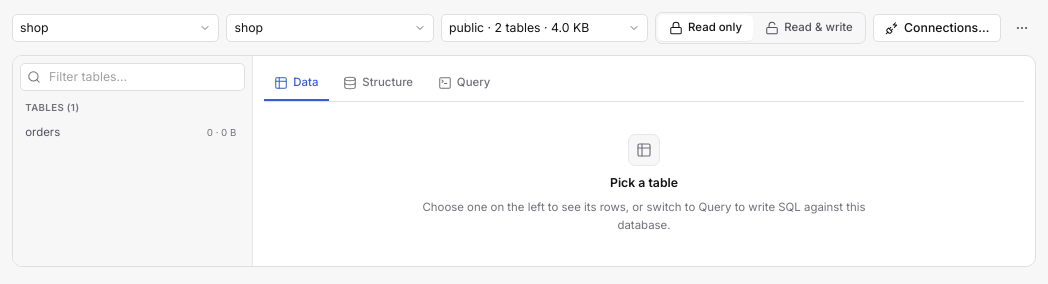
Test case: BrowserPanel › PostgreSQL schemas › shows qualified names under All schemas
expect the text "orders" is shown: met, box [25,123,60,142]
What coordinates should you click on to do the following:
click the button with aria-label "Schema"
I would click on:
 (545, 28)
Its box is [441,14,648,42].
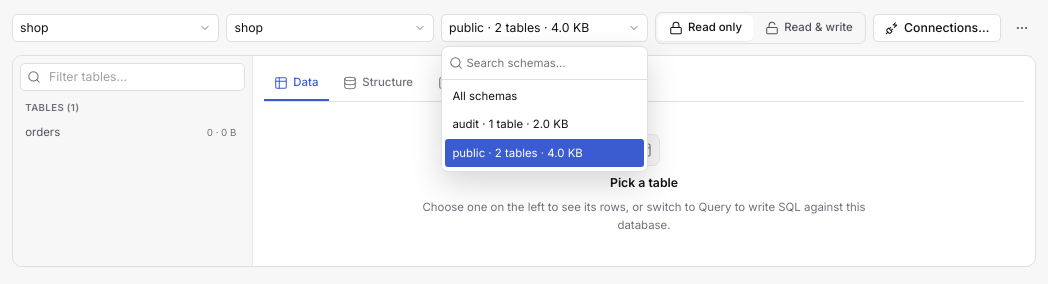
What coordinates should you click on to do the following:
click the option "All schemas"
I would click on:
 (485, 96)
Its box is [452,89,517,103].
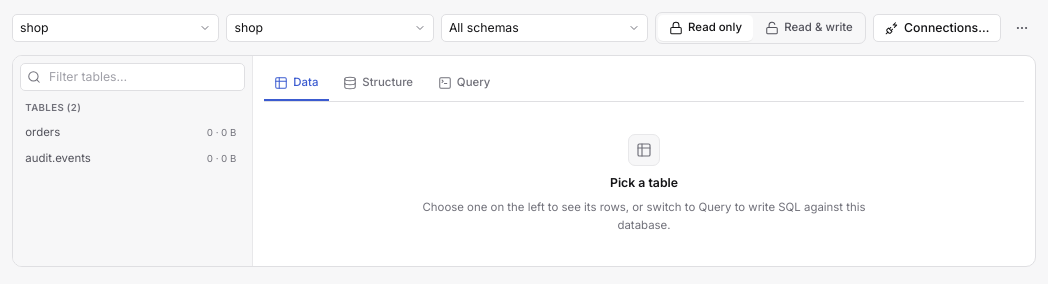
expect the text "audit.events" is shown: met, box [25,149,91,168]
